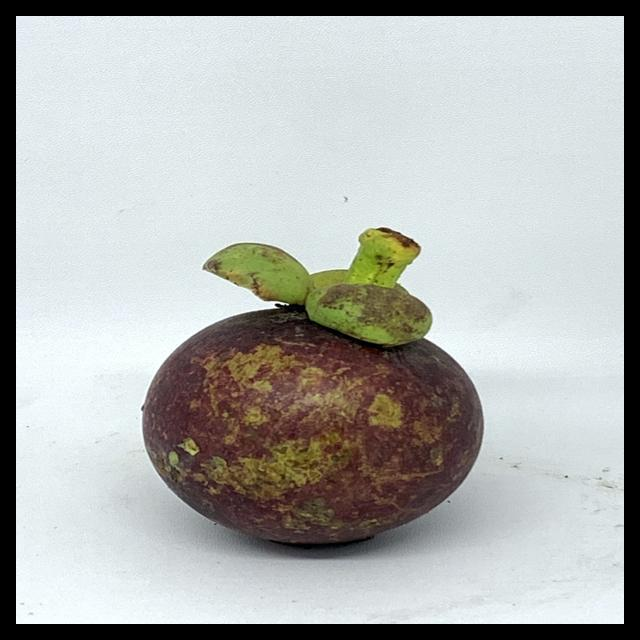mangosteen: (136, 214, 524, 566)
